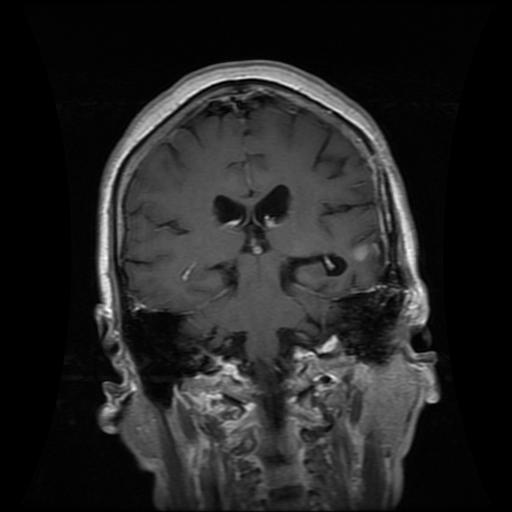Gliomia_tumour: (351, 232, 384, 260)
